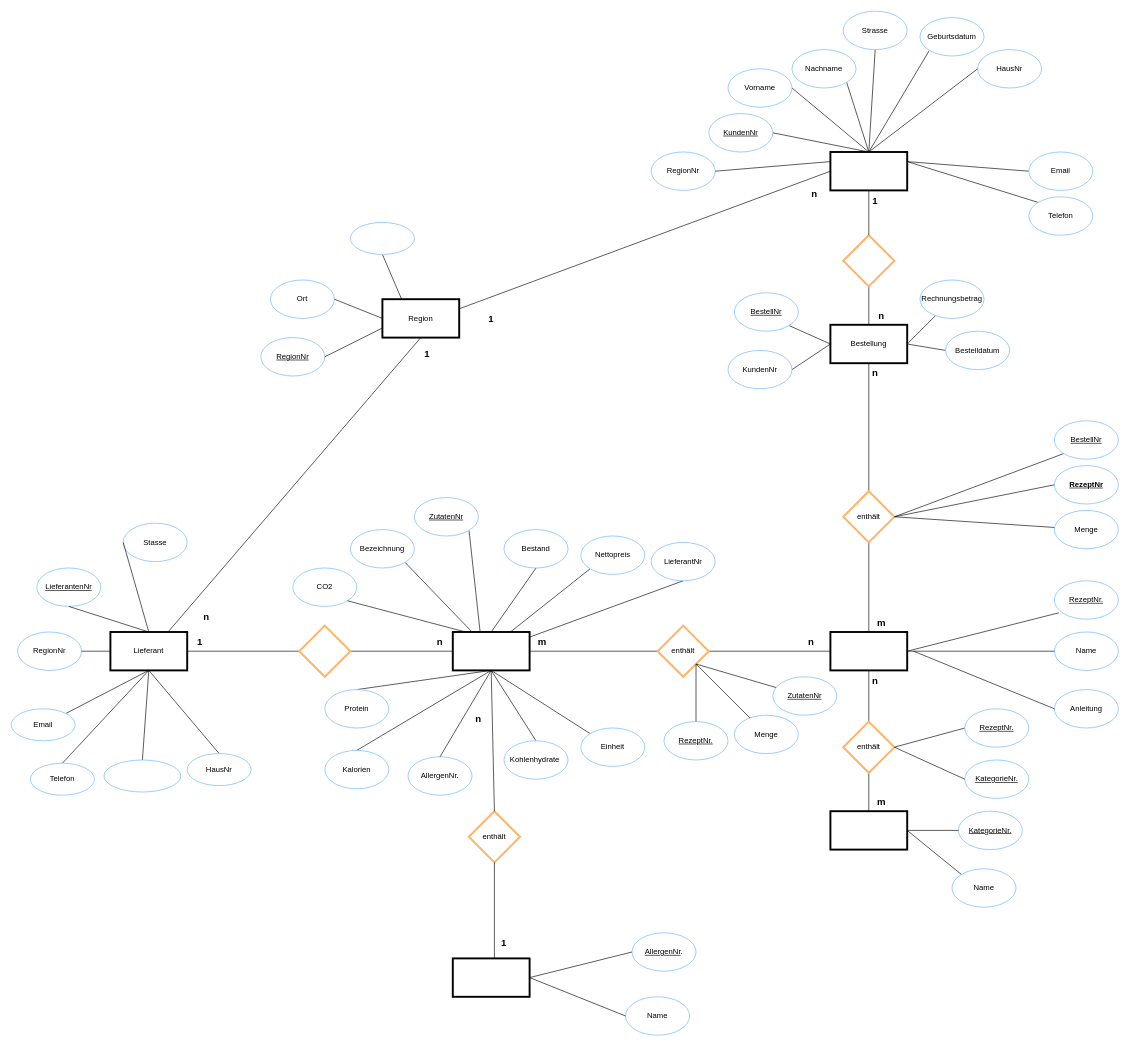
Some shapes in this 1130 by 1046 pixel diagram are drawn without their labels. The centre of each missing label's shape, as x and y in pixels:
Allergene: point (491, 977)
Ernährungskategorie: point (868, 830)
Kunde: point (868, 171)
Lieferantenname: point (142, 775)
liefert: point (324, 650)
PLZ: point (382, 238)
Rezept: point (868, 651)
tätigt: point (868, 260)
Zutat: point (491, 651)
